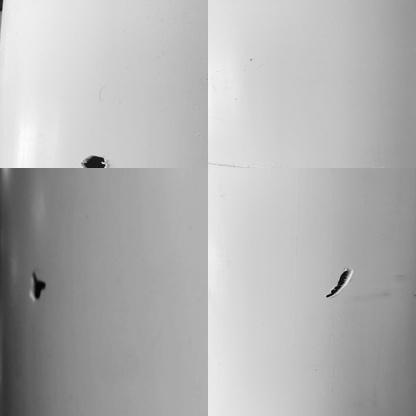kongdong: (23, 268, 53, 304), (325, 265, 355, 300), (81, 152, 111, 173)
